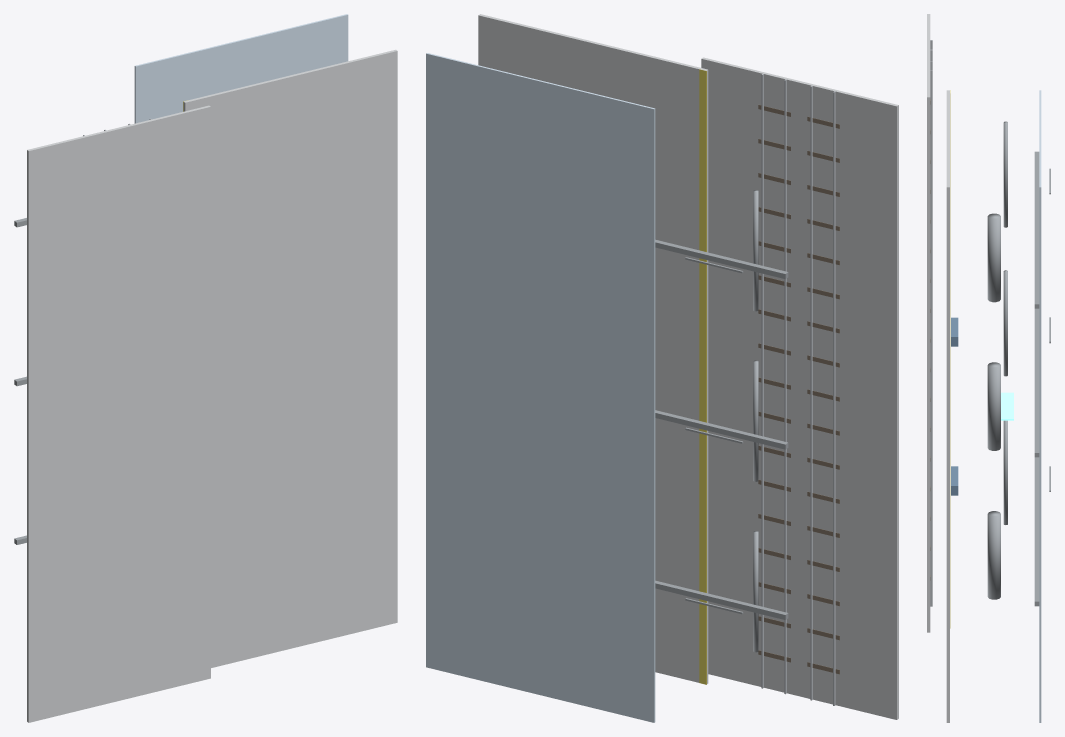
File: railway_station.glb
3 views of the same model, side by side, from view 1: azimuth 30°, elevation 25°; view 2: azimuth 150°, elevation 25°; view 3: azimuth 270°, elevation 25° (orthographic). The views are drawn at different scales.
Visible parts, largest first — view 1: RailwayStationGLB; view 2: RailwayStationGLB; view 3: RailwayStationGLB.
Part boxes in pixels (x1=…): RailwayStationGLB: x1=14, y1=14, x2=397, y2=722; RailwayStationGLB: x1=426, y1=14, x2=898, y2=722; RailwayStationGLB: x1=927, y1=14, x2=1050, y2=722.
Size of the model in its own units: 25 by 36 by 7.55.
